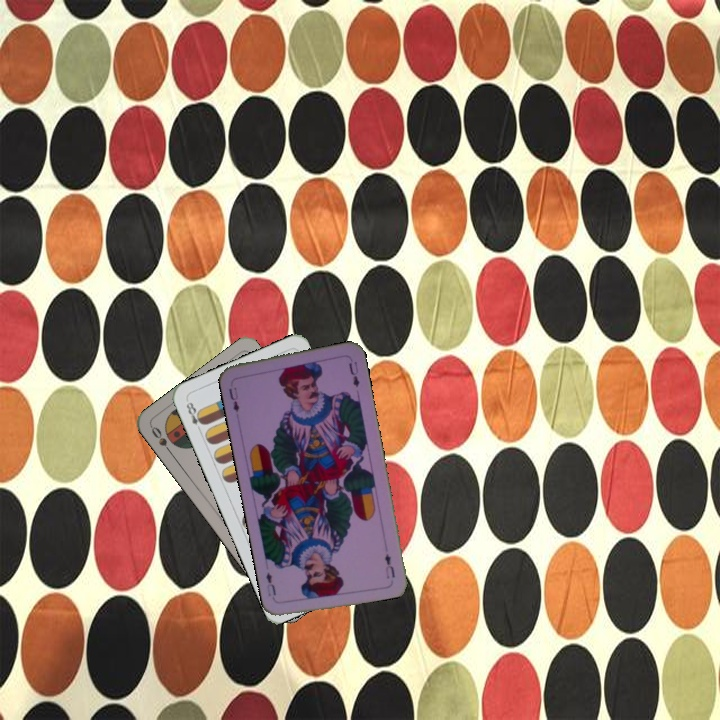E8: (182, 398, 207, 435)
EU: (225, 383, 242, 415), (381, 550, 397, 581)
SO: (147, 423, 176, 458)
